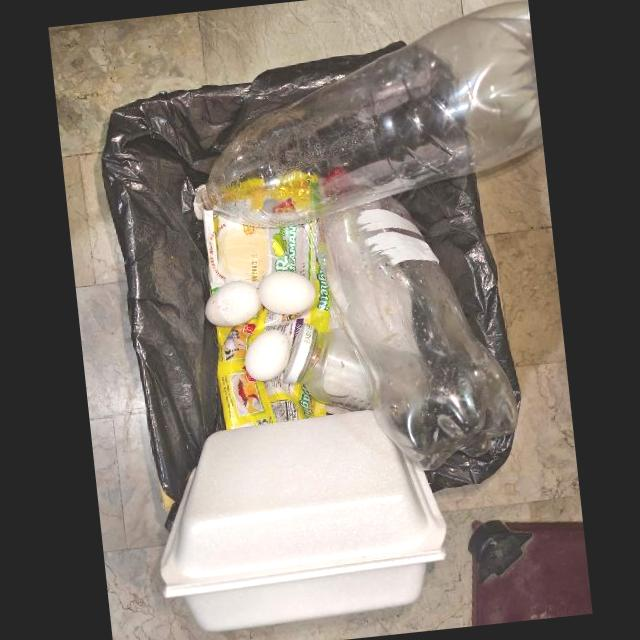chai_nhua_pet: (193, 0, 543, 227), (315, 195, 516, 469)
chai_thuy_tinh: (283, 321, 374, 410)
vo_trung: (257, 270, 316, 314), (205, 280, 261, 326), (245, 329, 290, 380)
xop: (160, 409, 447, 631)
